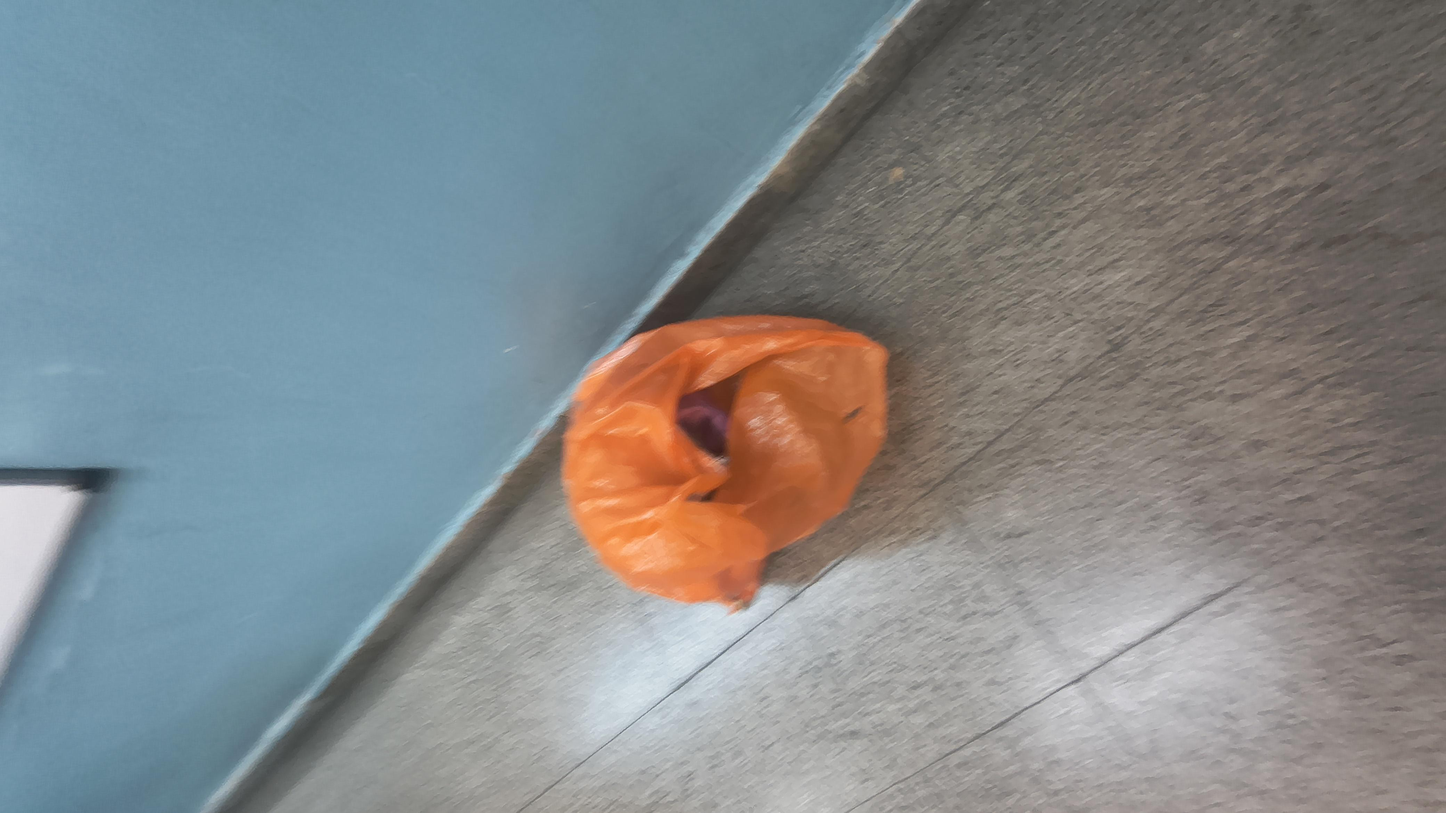Garbage: (260, 281, 1032, 524)
